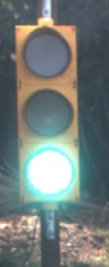Green: (11, 26, 88, 213)
